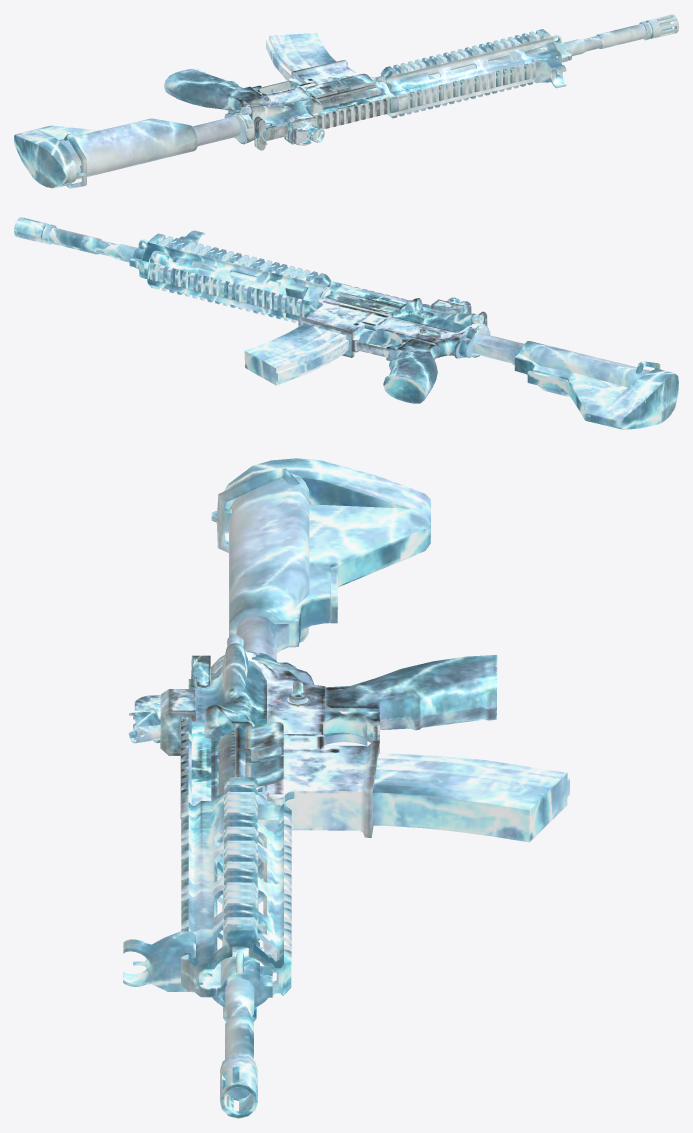
File: pubg_mobile_m4_glacier.glb
3 views of the same model, one above another, from view 1: azimuth 30°, elevation 25°; view 2: azimuth 150°, elevation 25°; view 3: azimuth 270°, elevation 25° (orthographic). The views are drawn at different scales.
Parts seen in each view (by area): view 1: main, back, magazine, aim; view 2: main, back, magazine, aim; view 3: main, back, magazine, aim.
Part boxes in pixels (x1,y1,x2,y2): main: (164, 14, 678, 150); back: (14, 109, 240, 188); magazine: (266, 33, 336, 80); aim: (284, 53, 566, 145); main: (14, 217, 490, 403); back: (454, 326, 678, 429); magazine: (244, 323, 348, 385); aim: (179, 230, 471, 313); main: (180, 635, 497, 1118); back: (211, 458, 430, 684); magazine: (372, 753, 569, 842); aim: (123, 689, 195, 992).
Bounding box in the file's own units: 0.9277 × 0.0754 × 0.2896.
Materials: 4 (4 with a texture image).
